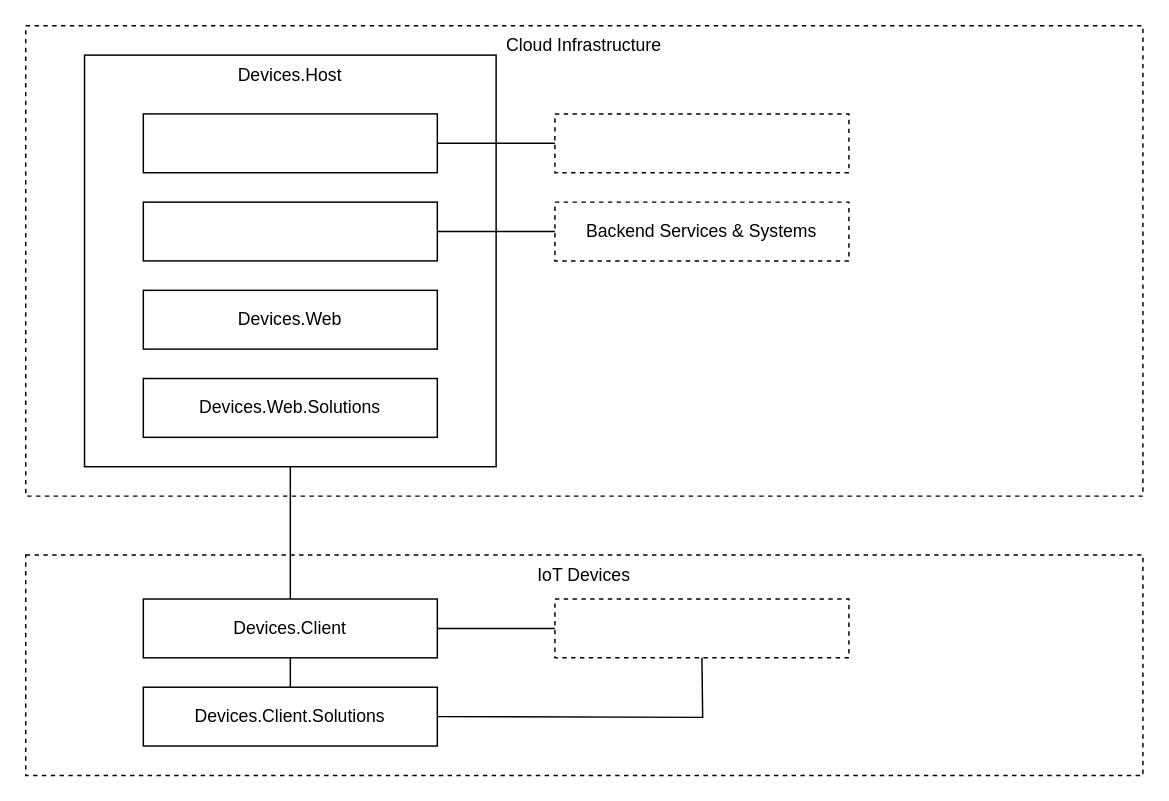
Image size: 1169x801. Some labels were removed from this diagram. Here are the shapes that lost their labels. From the top down, the centre of each, then its label:
point 289,142: Devices.Service
point 701,142: Storage & Data
point 289,231: Devices.Service.Solutions
point 701,628: Device Hardware & Peripherals
